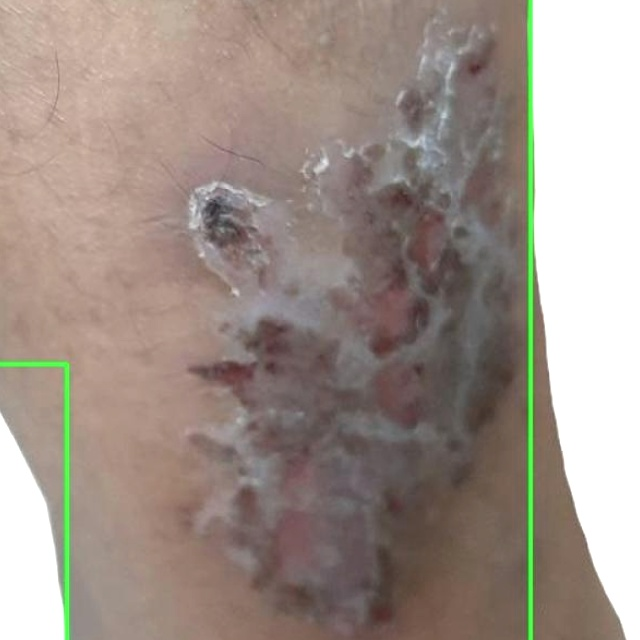Contact Dermatitis: (530, 0, 639, 639), (0, 364, 67, 639)
